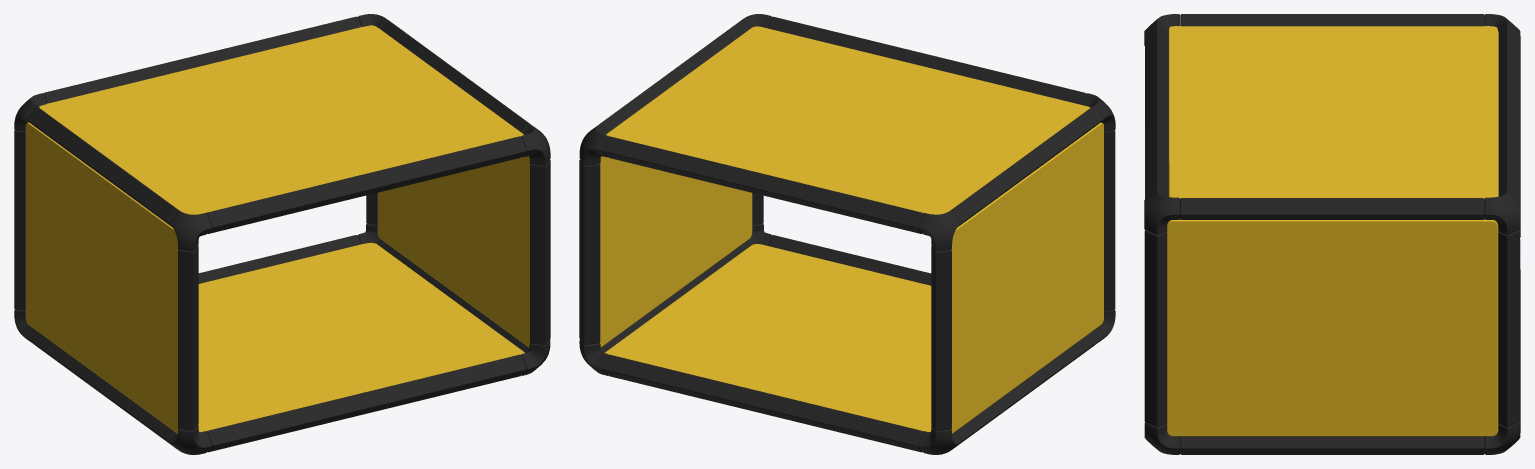
The picture shows the model from 3 angles, left to right: view 1: azimuth 30°, elevation 25°; view 2: azimuth 150°, elevation 25°; view 3: azimuth 270°, elevation 25°; orthographic projection. The views are drawn at different scales.
Visible parts, largest first — view 1: 420x329x229; view 2: 420x329x229; view 3: 420x329x229.
Part boxes in pixels (x1=…): 420x329x229: x1=14, y1=14, x2=550, y2=454; 420x329x229: x1=579, y1=14, x2=1115, y2=454; 420x329x229: x1=1144, y1=14, x2=1520, y2=454.
Size of the model in its own units: 0.4977 by 0.3066 by 0.4063.
